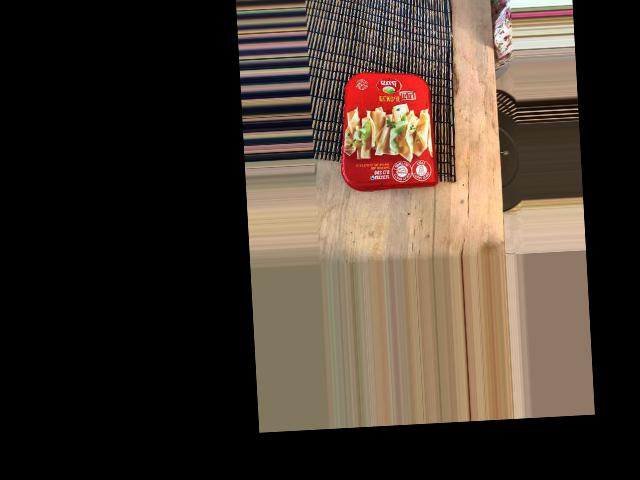cheese: (300, 14, 438, 109)
